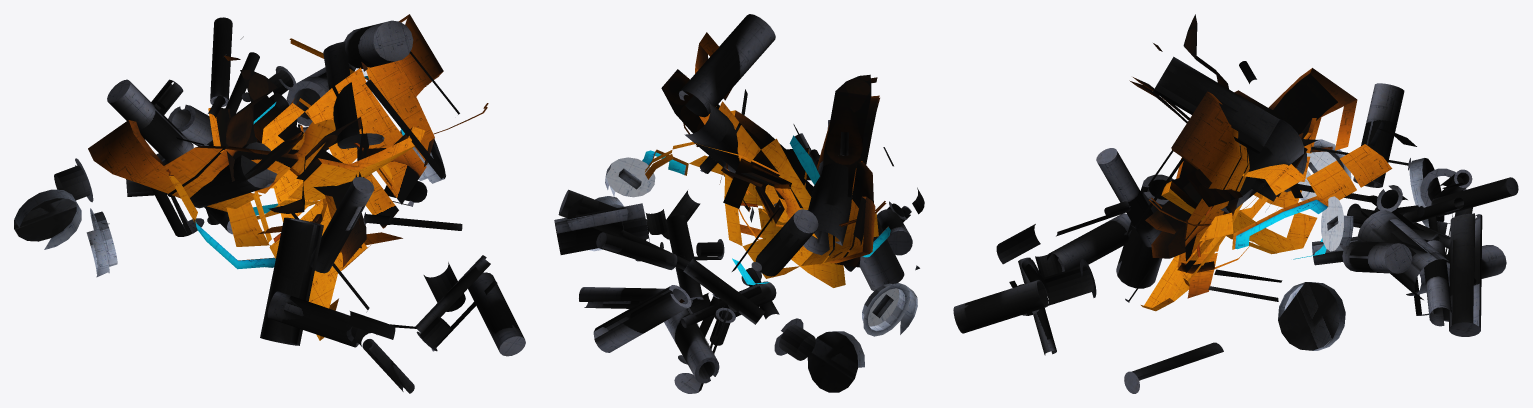
The model's file is MonsterA_die16.obj.
3 views of the same model, side by side, from view 1: azimuth 30°, elevation 25°; view 2: azimuth 150°, elevation 25°; view 3: azimuth 270°, elevation 25° (orthographic). The views are drawn at different scales.
Parts seen in each view (by area): view 1: Box001; view 2: Box001; view 3: Box001.
Part boxes in pixels (x1=…): Box001: x1=14, y1=14, x2=525, y2=393; Box001: x1=554, y1=14, x2=924, y2=393; Box001: x1=953, y1=14, x2=1518, y2=393.
Size of the model in its own units: 339 by 278 by 441.
1 material, 1 textured.
